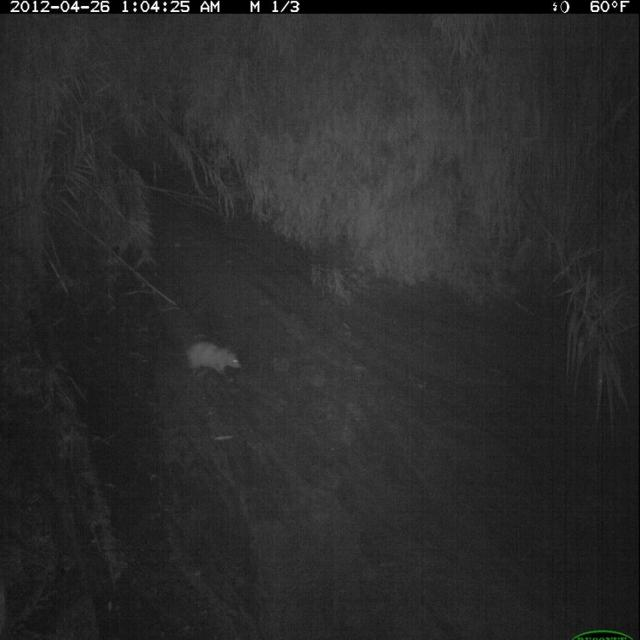opossum: (168, 339, 244, 384)
